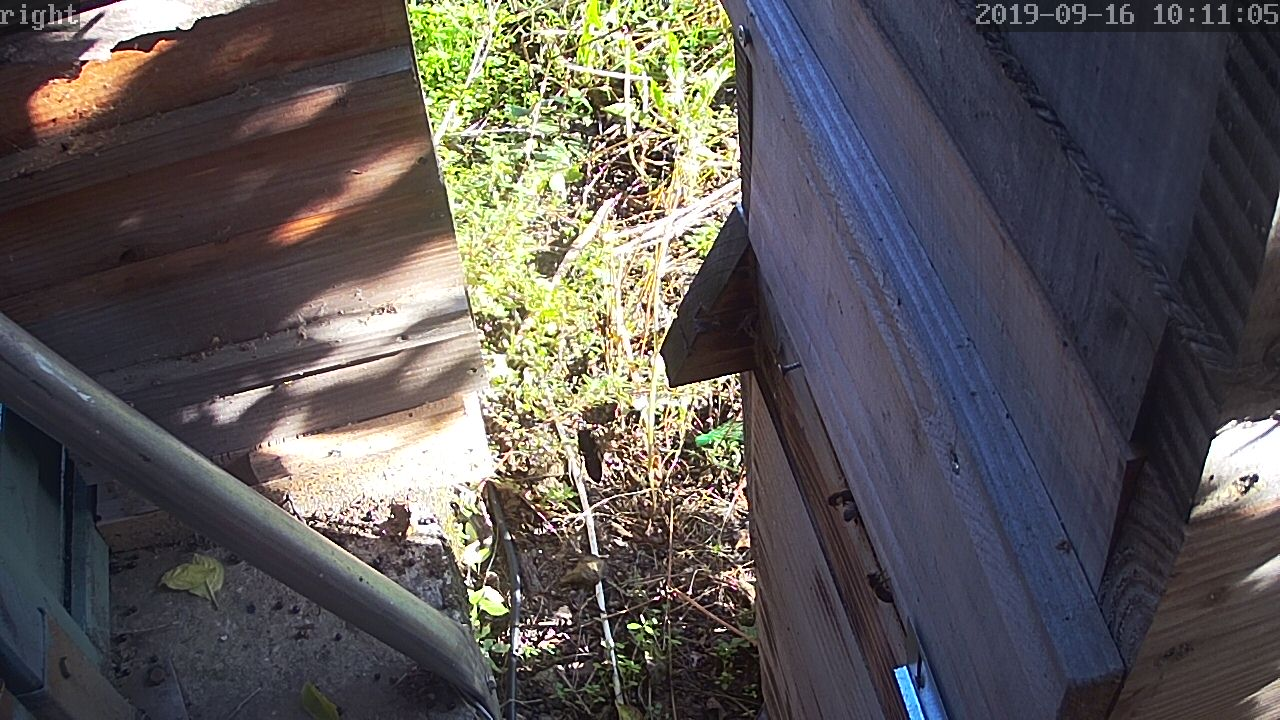bee: (829, 485, 864, 523), (863, 570, 895, 603)
hornet: (569, 422, 611, 489)
